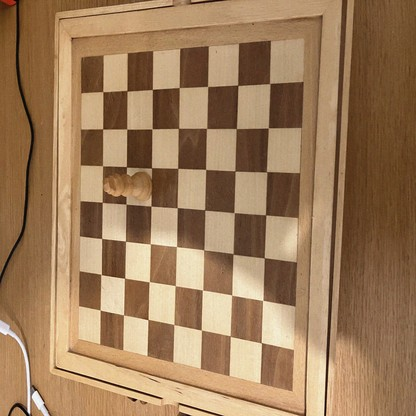king_white: (105, 174, 151, 200)
